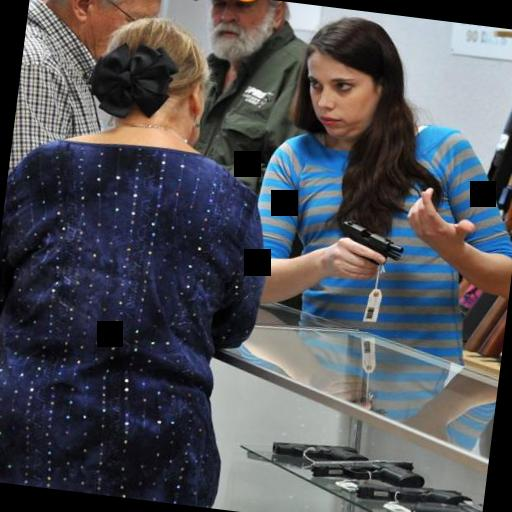Handgun: (308, 447, 425, 495), (353, 468, 472, 512), (332, 216, 405, 276), (268, 431, 370, 469)
